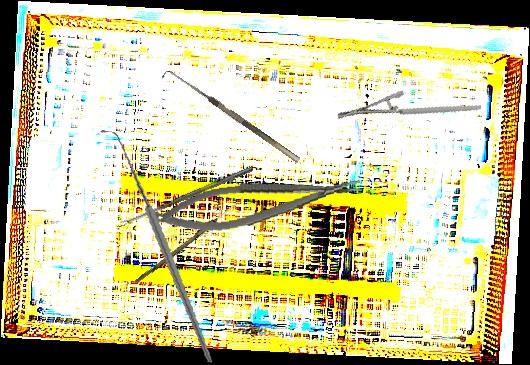Hook Surgical: (70, 129, 245, 364), (161, 66, 301, 170)
Needle Holder: (151, 169, 363, 239), (336, 68, 482, 156)
Surgical Spoon: (134, 194, 246, 287), (119, 165, 254, 227)
